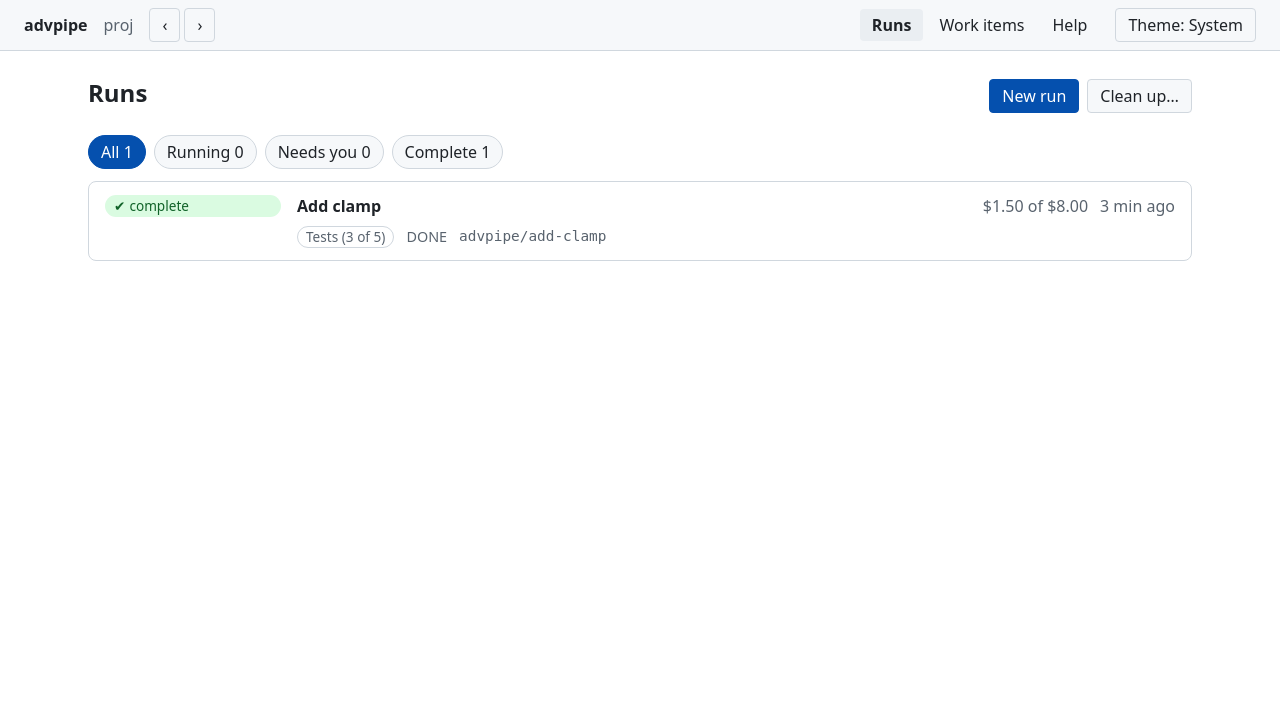
Scenario: Spec & context page › shows every block with who sees it, empty states and raw config, accessibly
The width and height of the screenshot is (1280, 720).
What coordinates should you click on to do the following:
click the link that starts with "complete"
I would click on:
 (193, 206)
Its box is [89,182,1191,260].
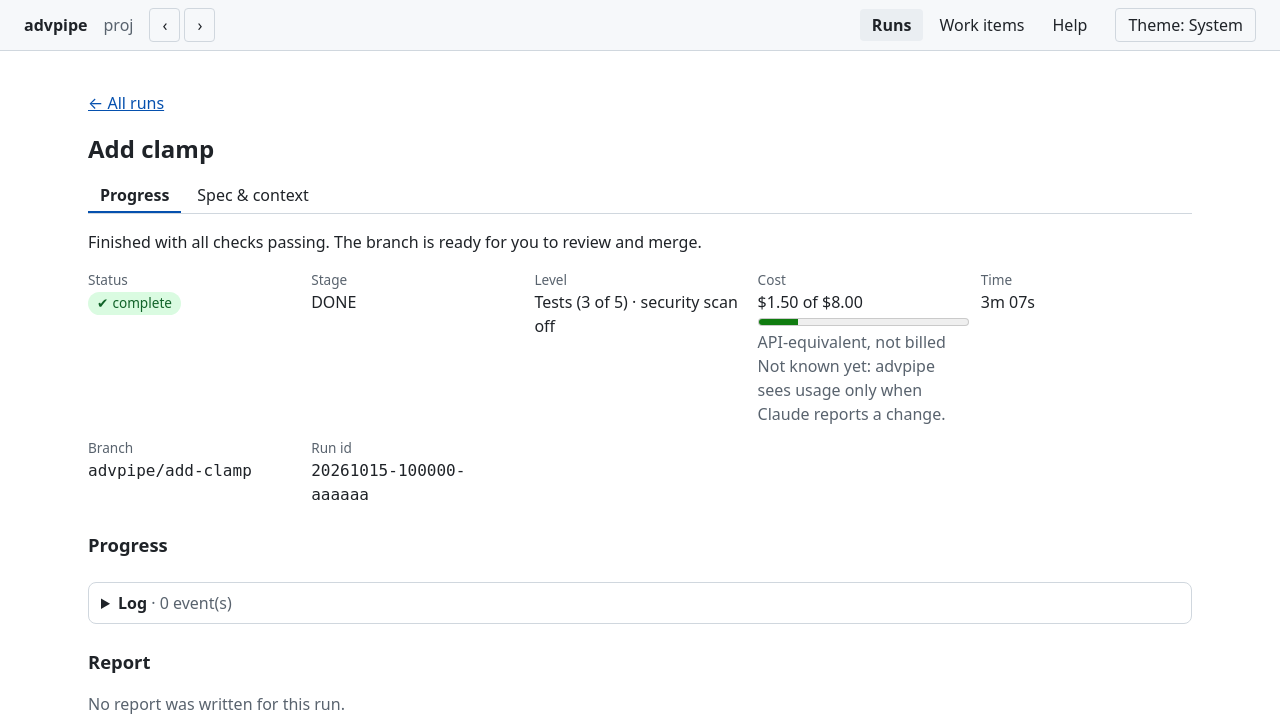
What coordinates should you click on to do the following:
click the link "Spec & context"
I would click on:
 (253, 195)
Its box is [197,184,309,206].
(page scrolled)
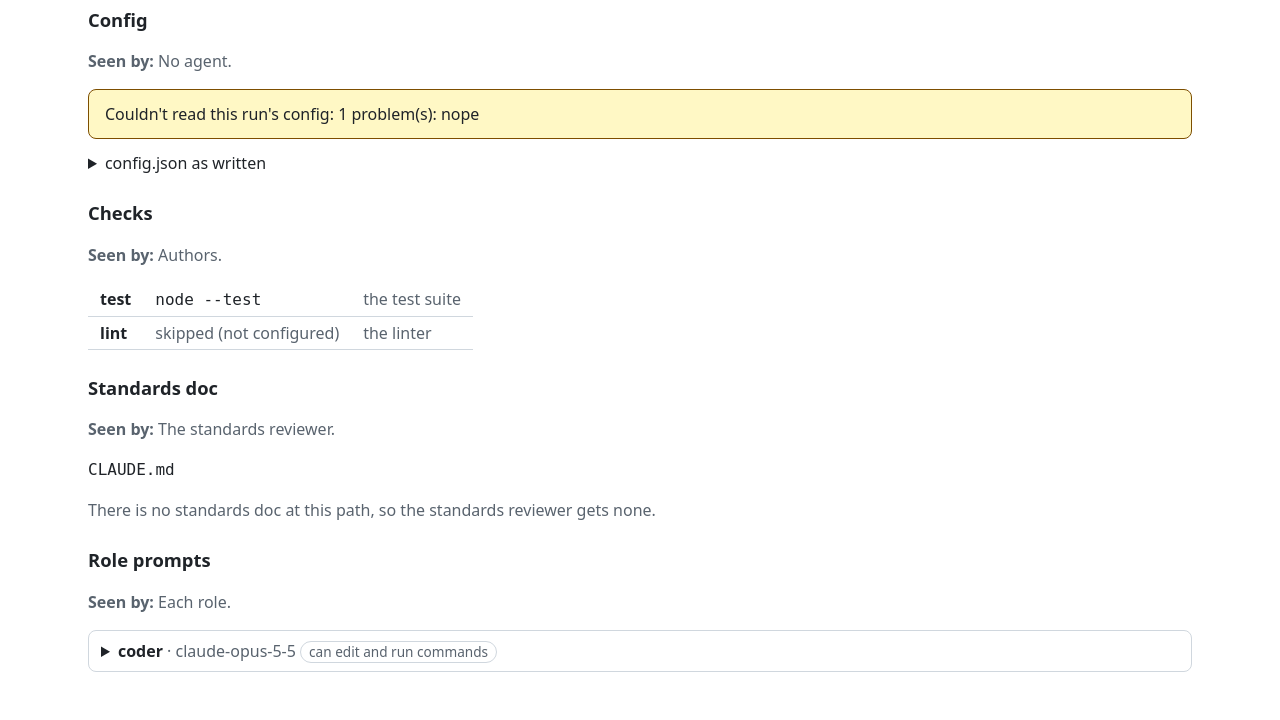
Now the text "Couldn't read this run's config: 1 problem(s): nope" is shown, box [88,89,1192,139]
Now the text "skipped (not configured)" is shown, box [155,322,339,344]
Now the text "no standards doc at this path" is shown, box [88,499,656,521]
